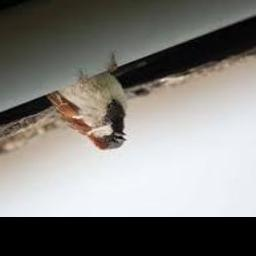Sparrow: (45, 58, 129, 150)
